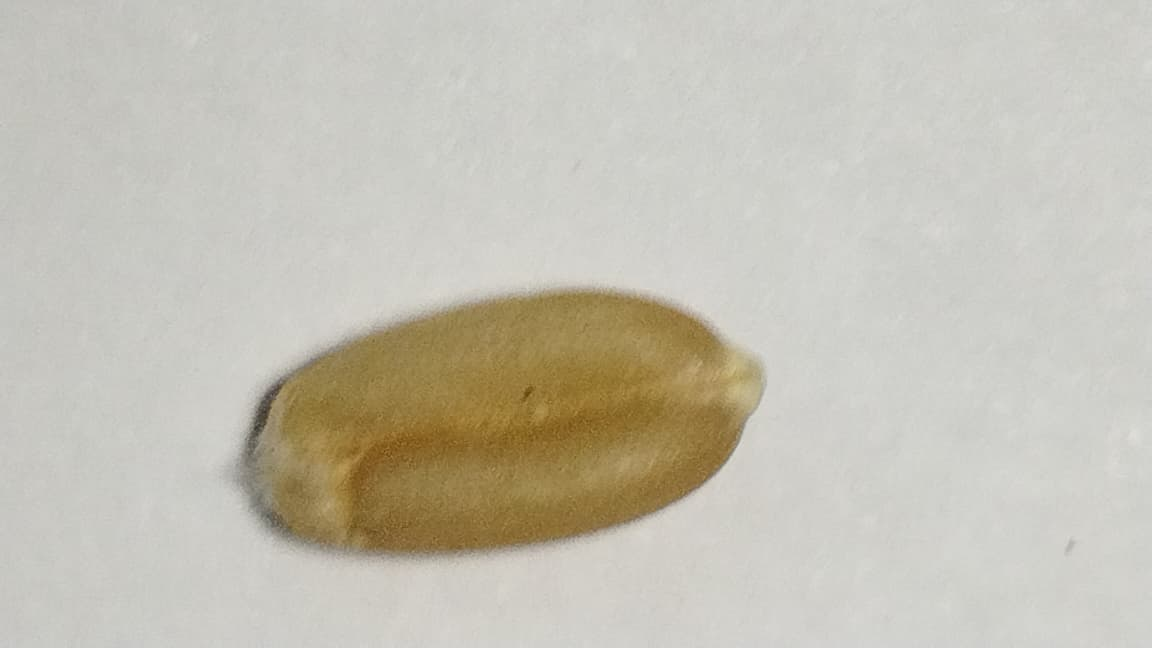healthy: (255, 288, 762, 552)
